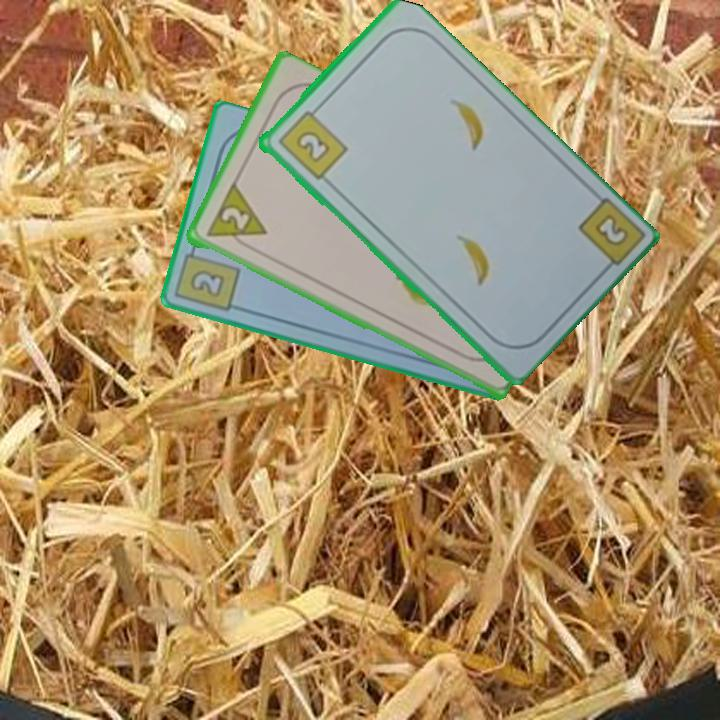2b: (274, 102, 350, 183), (172, 239, 243, 315), (590, 210, 631, 249)
2p: (202, 182, 269, 253)
